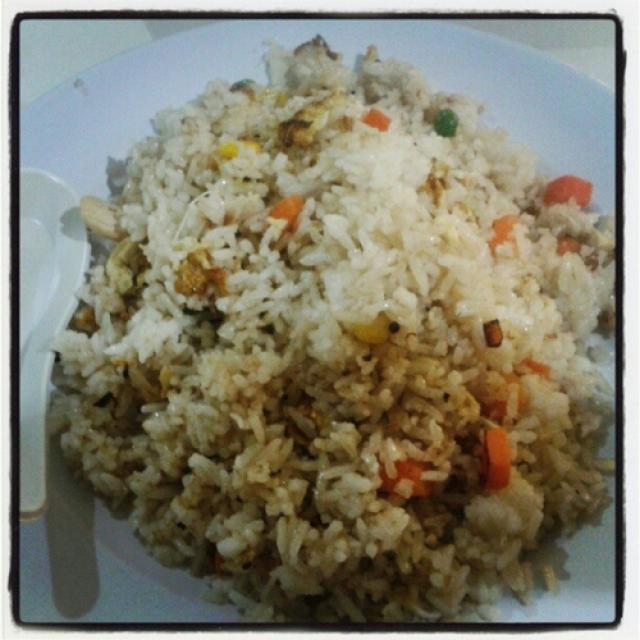米饭主食: (55, 45, 603, 596)
